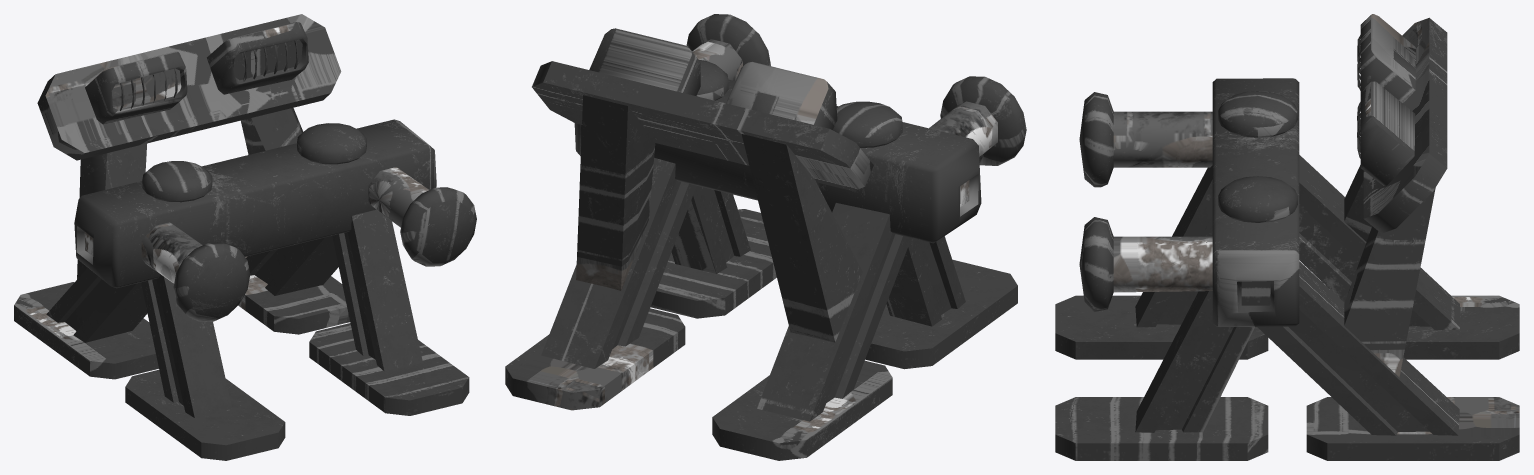
The model's file is SM_Bumper_01_LOD_02.FBX.
3 views of the same model, side by side, from view 1: azimuth 30°, elevation 25°; view 2: azimuth 150°, elevation 25°; view 3: azimuth 270°, elevation 25° (orthographic). The views are drawn at different scales.
Visible parts, largest first — view 1: SM_Bumper_01_LOD_02; view 2: SM_Bumper_01_LOD_02; view 3: SM_Bumper_01_LOD_02.
Boxes of the visible parts, left/top/right/bottom form: SM_Bumper_01_LOD_02: left=14, top=14, right=476, bottom=460; SM_Bumper_01_LOD_02: left=505, top=14, right=1026, bottom=460; SM_Bumper_01_LOD_02: left=1055, top=14, right=1519, bottom=460.
Size of the model in its own units: 3.57 by 2.85 by 3.73.
